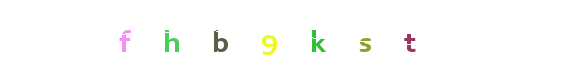9: (229, 0, 309, 80)
B: (201, 0, 281, 80)
F: (95, 0, 175, 80)
H: (179, 0, 259, 80)
K: (242, 0, 322, 80)
S: (299, 0, 379, 80)
T: (369, 0, 449, 80)
